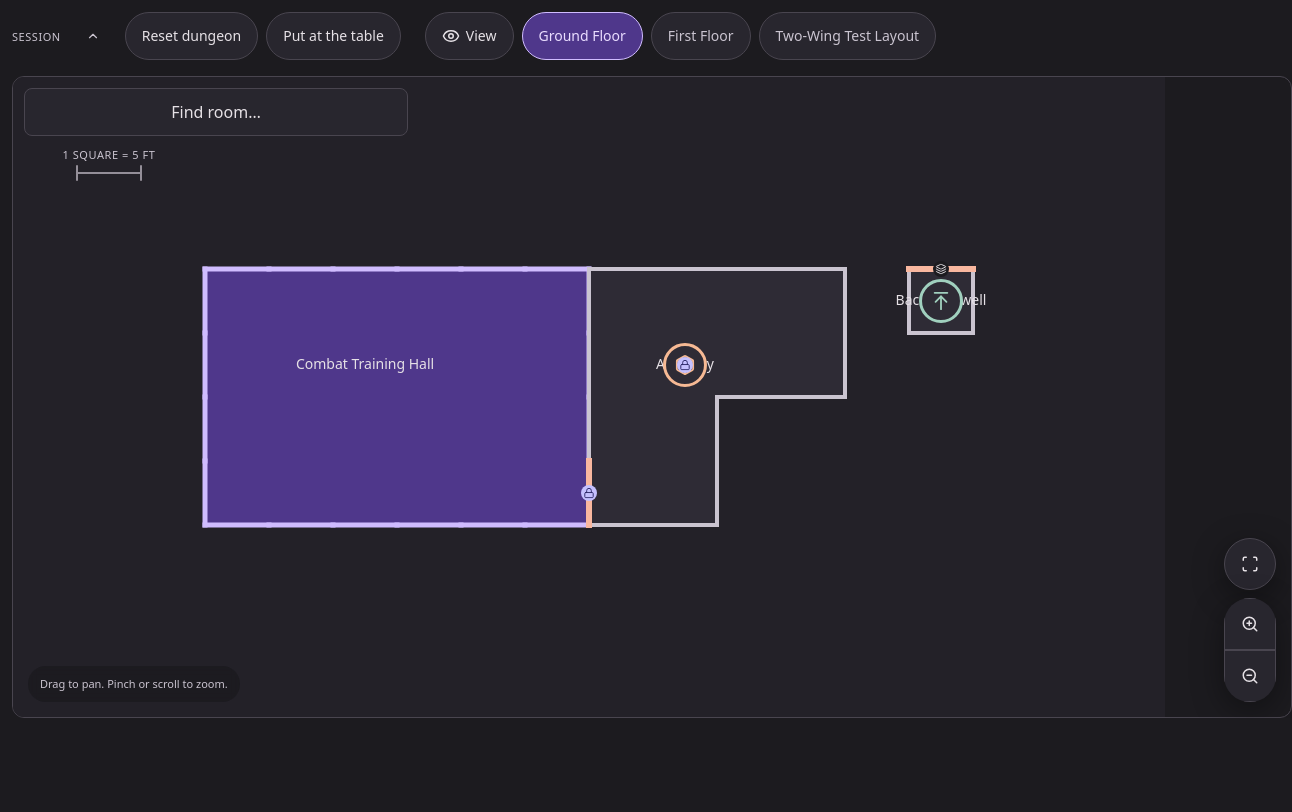
Scenario: MapLabPage (Stage 6 — at-the-table control) › shows "Put at the table" when this dungeon is not at the table, and sets it on click
Click the button "Put at the table": click(334, 36) [266, 12, 401, 60]
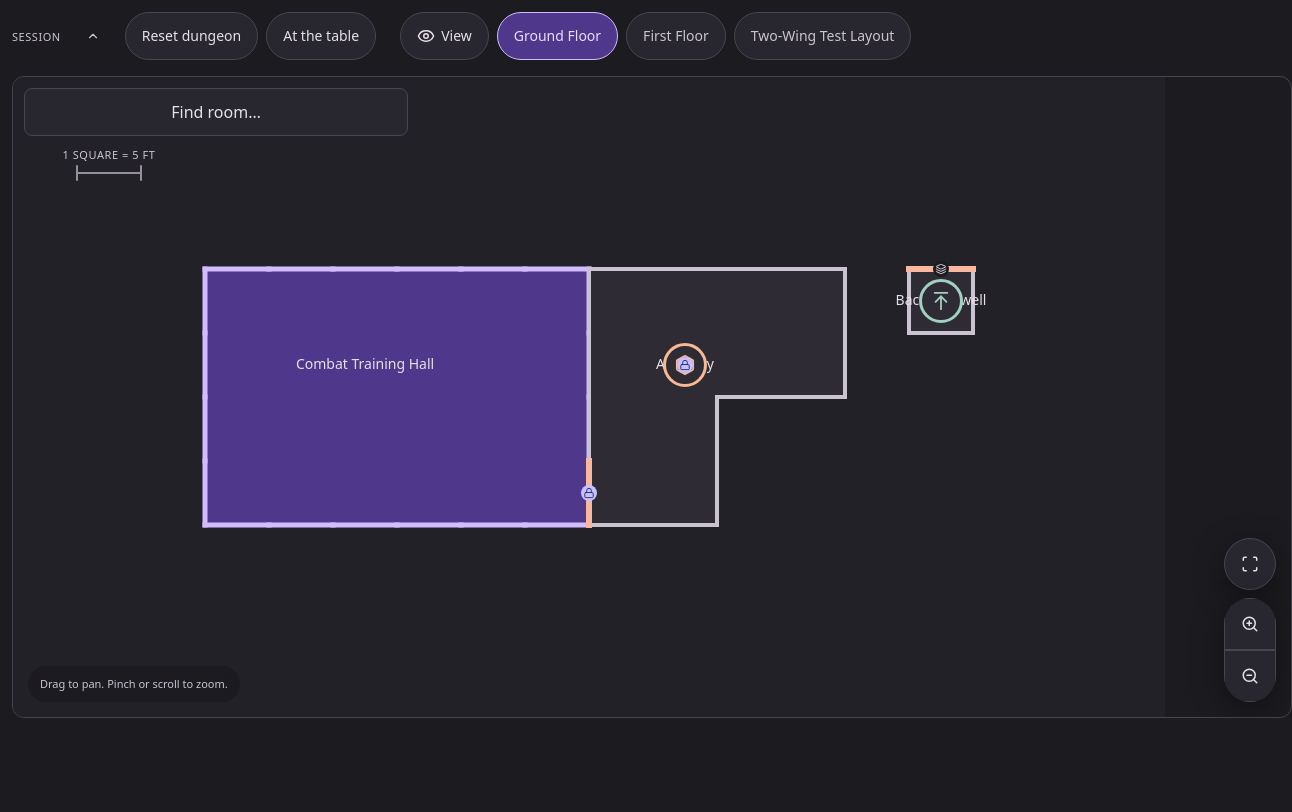
Expected: the button named "Put at the table" is disabled, [266, 12, 376, 60]
Expected: the button "At the table" is disabled, [266, 12, 376, 60]
